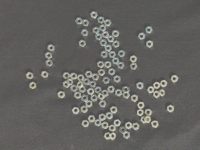nut: (151, 121, 160, 129), (171, 75, 179, 83), (167, 105, 175, 113), (153, 91, 161, 99), (144, 116, 152, 124), (137, 109, 145, 117), (131, 94, 139, 102), (115, 89, 123, 97), (118, 50, 126, 58), (112, 57, 120, 65), (112, 30, 120, 38), (107, 35, 115, 43), (100, 39, 108, 47), (95, 33, 103, 41), (104, 19, 112, 27), (110, 106, 118, 114), (87, 88, 95, 96), (88, 115, 96, 123), (82, 120, 90, 128), (72, 107, 80, 115), (74, 92, 82, 100), (70, 72, 78, 80), (26, 72, 34, 80), (120, 126, 127, 135), (124, 131, 131, 140), (102, 89, 109, 98), (146, 26, 153, 34), (147, 40, 154, 48), (138, 33, 146, 40), (159, 89, 166, 97), (148, 86, 155, 94), (130, 56, 138, 63), (130, 63, 138, 70), (137, 82, 144, 90), (145, 109, 153, 116), (133, 123, 140, 131), (126, 122, 133, 130), (123, 86, 130, 94), (123, 92, 131, 99), (117, 62, 125, 69), (109, 51, 117, 58), (113, 40, 120, 48), (114, 75, 121, 83), (114, 120, 122, 127), (105, 61, 112, 69), (97, 61, 105, 68), (102, 31, 110, 38), (100, 24, 107, 32), (93, 26, 100, 34), (98, 16, 105, 24), (82, 19, 90, 26), (76, 17, 83, 25), (81, 29, 89, 36), (79, 40, 86, 48), (109, 68, 116, 76), (98, 69, 106, 76), (109, 125, 117, 132), (109, 133, 116, 141), (106, 112, 113, 120), (102, 122, 109, 130), (99, 114, 106, 122), (95, 119, 102, 127), (98, 93, 105, 101), (99, 101, 107, 108), (95, 86, 102, 94), (89, 81, 97, 88), (85, 71, 93, 78), (83, 78, 91, 85), (86, 100, 93, 108), (81, 106, 88, 114), (81, 95, 89, 102), (79, 86, 86, 94), (77, 75, 85, 82), (77, 81, 84, 89), (63, 81, 70, 89), (63, 72, 71, 79), (58, 91, 65, 99), (48, 44, 55, 52), (45, 52, 53, 59), (46, 59, 53, 67), (41, 71, 49, 78), (30, 82, 37, 90), (161, 80, 168, 87), (154, 82, 161, 89), (141, 117, 148, 124), (138, 102, 145, 109), (101, 51, 108, 58), (105, 45, 112, 52), (91, 11, 98, 18), (108, 86, 115, 93), (103, 77, 110, 84), (104, 133, 111, 140), (92, 74, 99, 81), (91, 95, 98, 102), (71, 85, 78, 92), (67, 79, 74, 86)
